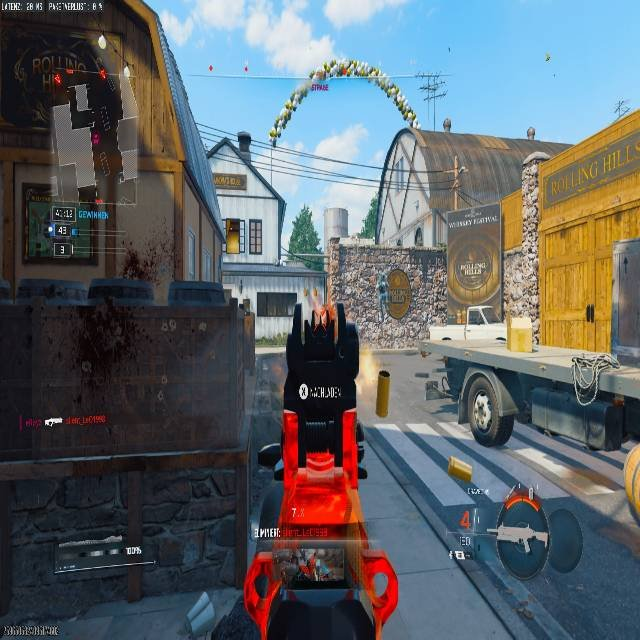player: (47, 208, 75, 257)
